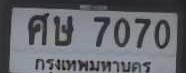0: (153, 18, 169, 48), (113, 17, 129, 46)
7: (134, 17, 150, 47), (93, 16, 109, 46)
A38: (28, 12, 48, 44)
A39: (53, 15, 73, 44)
BKK: (31, 56, 154, 73)
